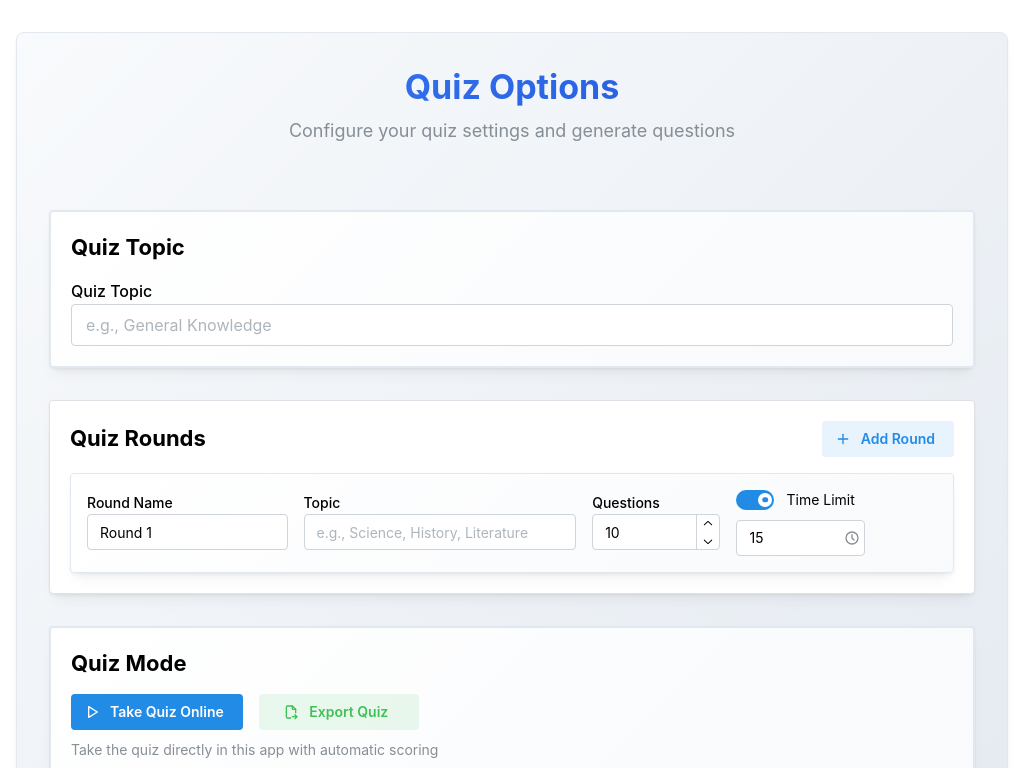
it: QuizOptions component › allows switching between quiz modes
Expected: the text "Take the quiz directly in this app with automatic scoring" is shown, [71, 741, 438, 758]
# Switch to export mode
Step 1. Click the button "Export Quiz" → (339, 712), box [259, 694, 419, 730]
(page scrolled)
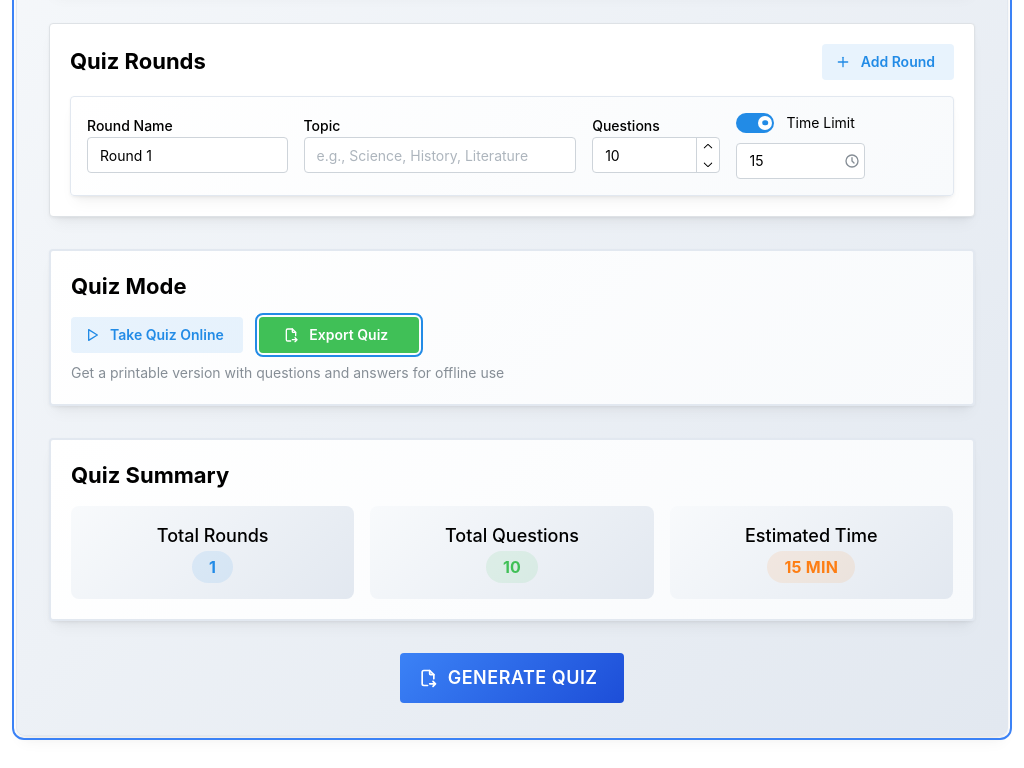
Expected: the text "Get a printable version with questions and answers for offline use" is shown, [71, 364, 504, 381]
Expected: the button "Generate Quiz" is shown, [448, 667, 598, 688]
